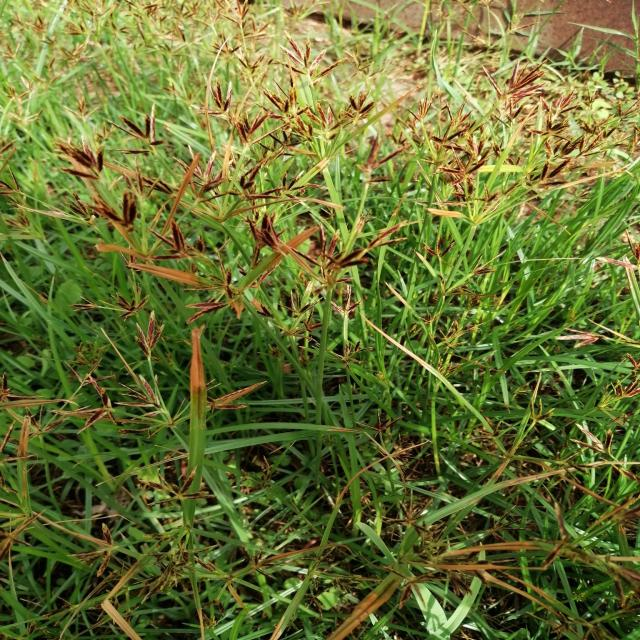cyperus: (60, 312, 259, 436), (106, 135, 342, 227), (356, 484, 531, 583), (141, 216, 293, 320), (14, 136, 137, 246), (271, 210, 409, 304), (277, 287, 388, 382), (398, 93, 496, 196), (524, 88, 640, 170), (44, 0, 214, 41), (136, 524, 215, 602), (415, 234, 496, 306), (412, 309, 493, 381), (212, 0, 273, 75), (265, 86, 341, 146), (442, 0, 534, 47), (272, 27, 338, 86), (138, 457, 214, 507), (363, 412, 422, 474), (478, 60, 548, 106), (69, 525, 128, 575), (105, 107, 166, 154), (348, 132, 402, 185), (191, 80, 246, 125), (233, 540, 280, 584), (339, 42, 392, 81), (0, 84, 43, 124), (548, 433, 586, 477), (607, 353, 640, 402), (156, 54, 191, 98), (59, 95, 96, 124), (342, 91, 374, 123), (13, 12, 53, 35), (62, 44, 94, 67), (0, 39, 27, 64)
